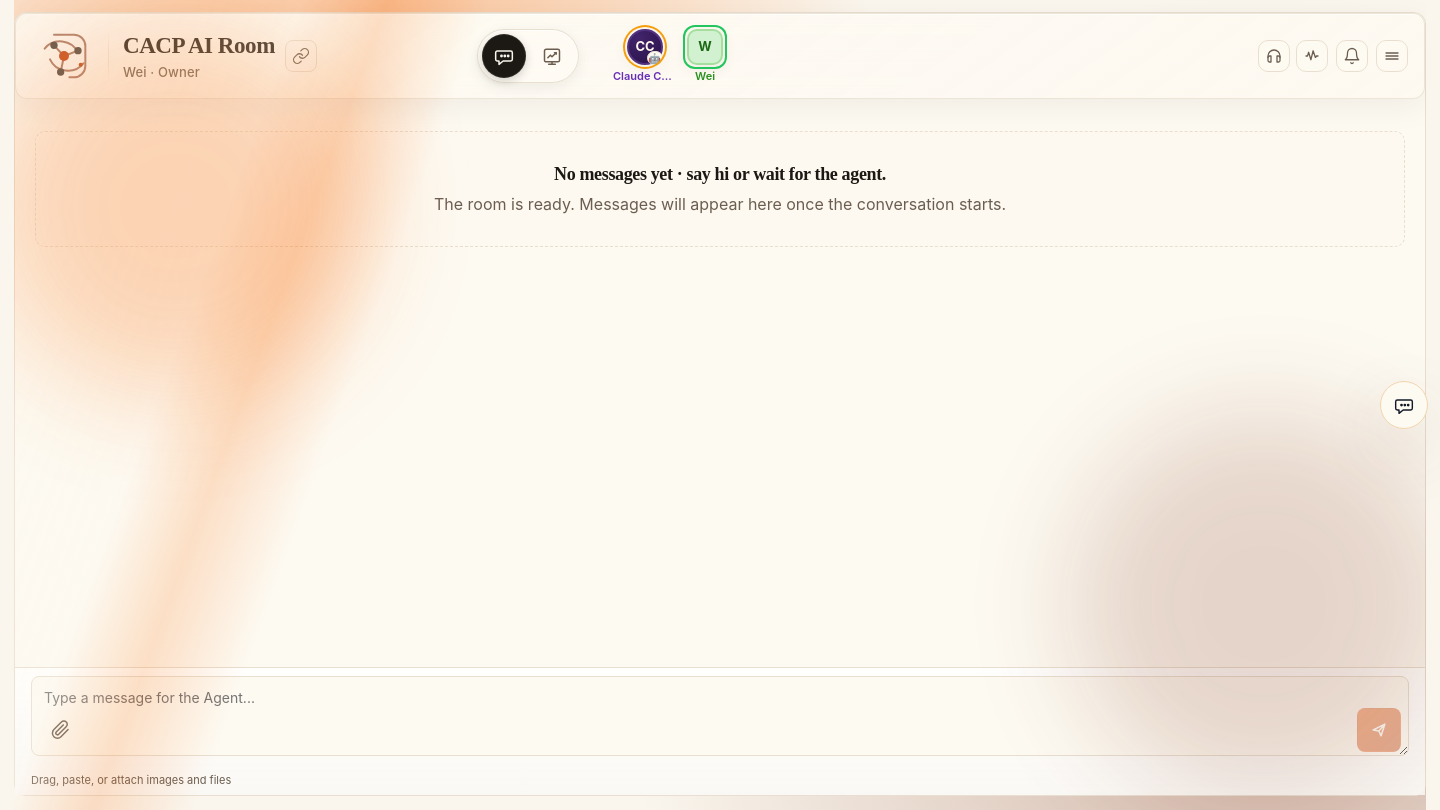
Workspace refactored shell › opens people popover when human avatar is clicked
What coordinates should you click on to do the following:
click the element named "Wei, Owner, online"
I would click on:
 (705, 56)
Its box is [687,29,723,83].
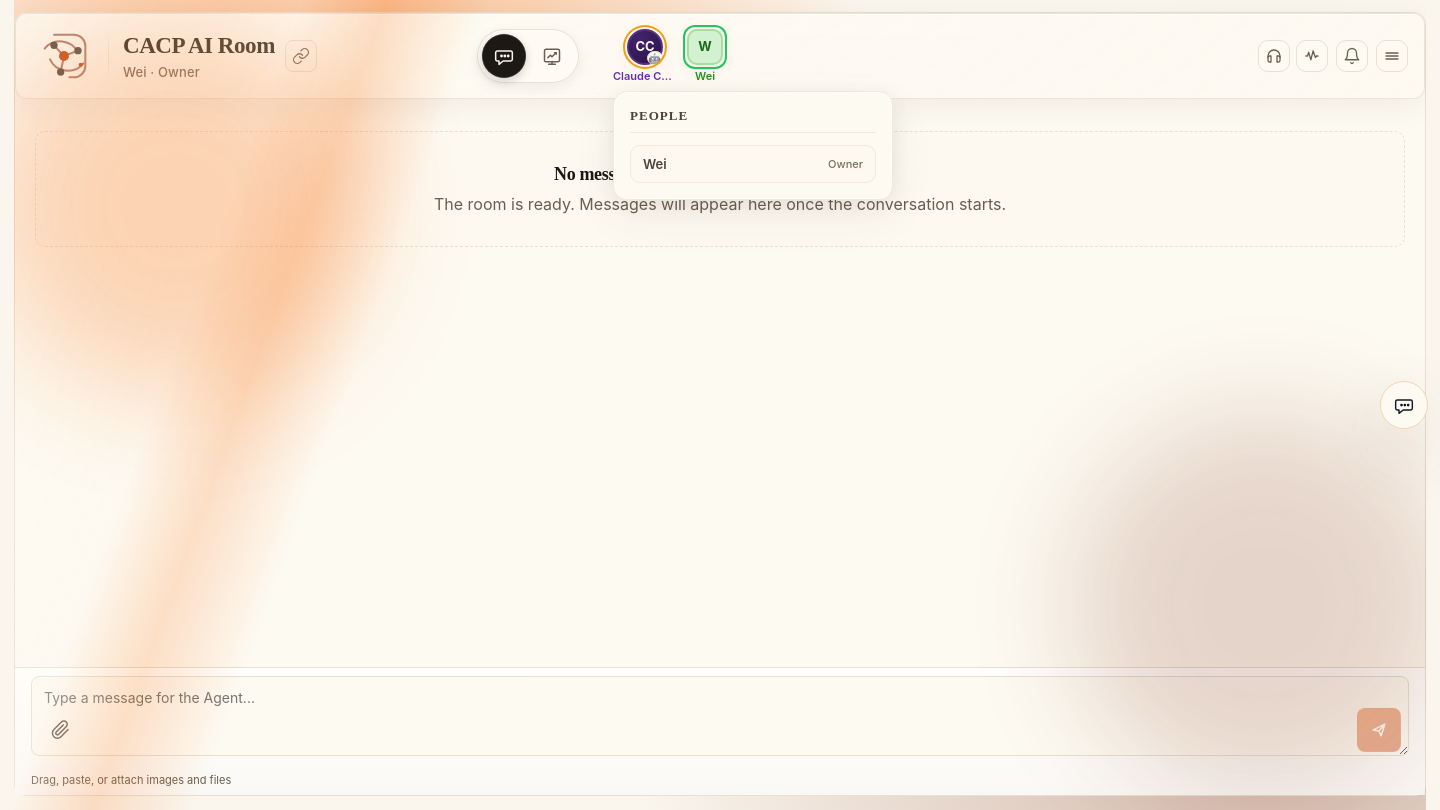
Expected: the dialog is shown, [613,91,893,200]
Expected: the heading "People" is shown, [630,108,876,133]
Expected: the text "Wei" below "People" is shown, [643,156,667,172]
